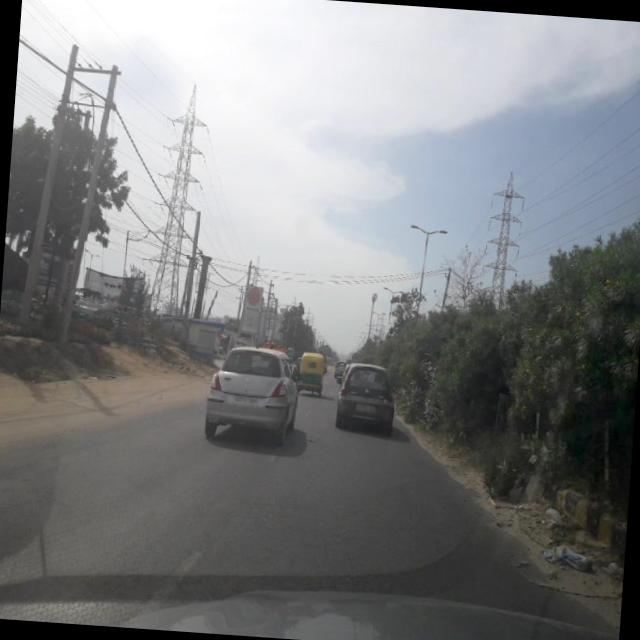crack: (0, 428, 521, 633)
